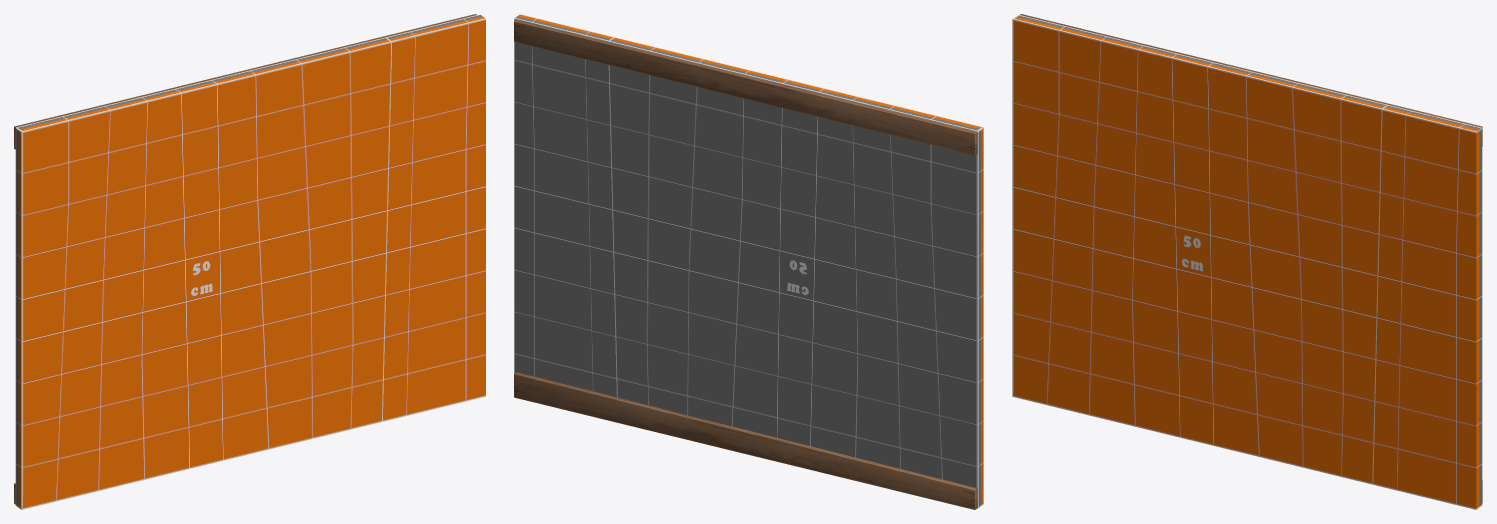
Rendered from Hangar01W_1.FBX.
The picture shows the model from 3 angles, left to right: view 1: azimuth 30°, elevation 25°; view 2: azimuth 150°, elevation 25°; view 3: azimuth 330°, elevation 25°; orthographic projection.
Visible parts, largest first — view 1: Hangar01W_1; view 2: Hangar01W_1; view 3: Hangar01W_1.
Part boxes in pixels (x1=…): Hangar01W_1: x1=14, y1=14, x2=485, y2=509; Hangar01W_1: x1=514, y1=14, x2=983, y2=509; Hangar01W_1: x1=1012, y1=14, x2=1482, y2=509.
Size of what is drawn, in the model's own units: 4.5 by 3.5 by 0.1396.
